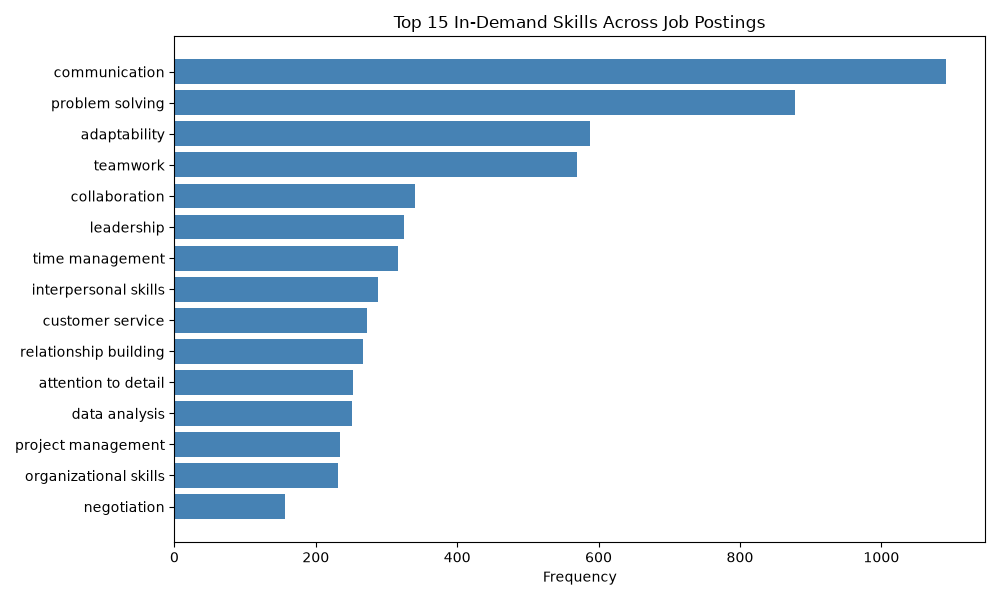

This screenshot's page, from the dashboard's own definition file:
{"tool":"powerbi","page":{"name":"Page 1","canvas":[1920,1080],"ordinal":0},"visuals":[{"type":"clusteredBarChart","fields":{"Category":["all_job_post.category"],"Y":["Sum(all_job_post.job_id)"]},"box":[119.4,45.3,1080.6,687.5],"z":0}]}

Visuals, with their boxes on the page's 1920x1080 design canvas (x1, y1, x2, y2). These are canvas units, not pixel positions in the 1000x600 screenshot, which may show the page scaled, cropped or inside an application window:
clusteredBarChart - all_job_post.category x Sum(all_job_post.job_id): l=119, t=45, r=1200, b=733
